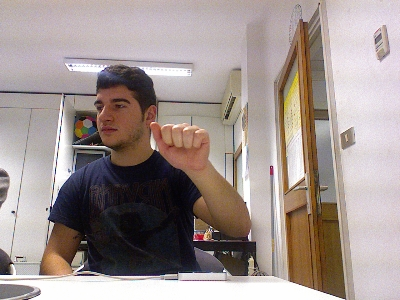石头: (146, 119, 211, 172)
